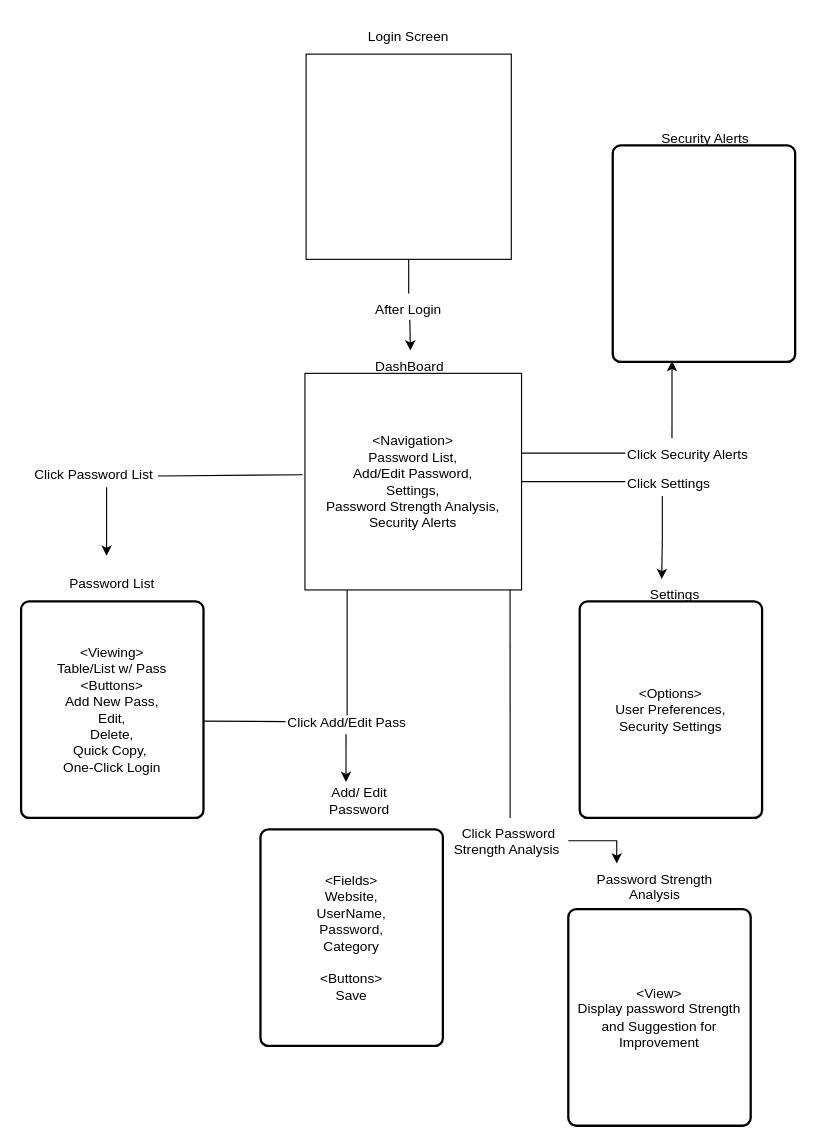
This 815x1146 diagram has some shape labels left out. The centre of each missing label's shape, as x and y in pixels:
"<Fields> Username, Password <Buttons> Login, Forgot password" belongs at [408,156].
"<View & Select> List of Security Alerts" belongs at [703,253].
